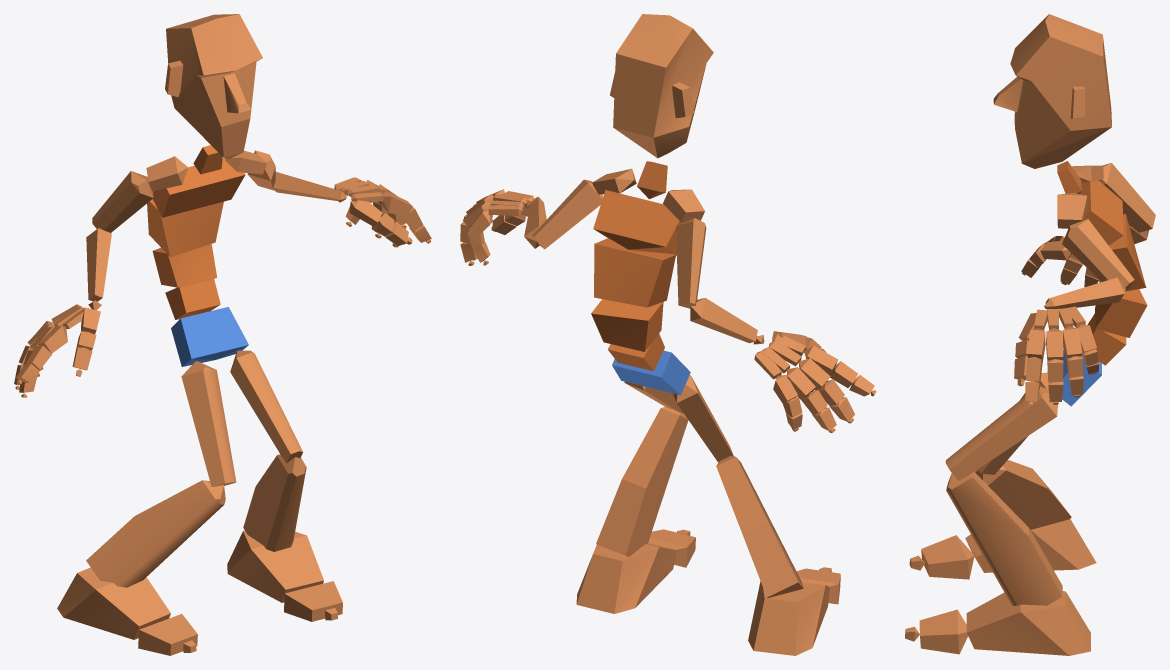
File: prueba289.obj
3 views of the same model, side by side, from view 1: azimuth 30°, elevation 25°; view 2: azimuth 150°, elevation 25°; view 3: azimuth 270°, elevation 25° (orthographic). The views are drawn at different scales.
Visible parts, largest first — view 1: BOPED_Head, BOPED_R_leg, BOPED_R_foot, BOPED_R_foot01, BOPED_L_leg, BOPED_R_legup, Bone01, BOPED_L_legup, Bone04, Bone05, Bone03, BOPED_R_arm_upper (+8 smaller); view 2: BOPED_Head, BOPED_L_leg, BOPED_R_foot01, BOPED_R_leg, BOPED_R_foot, Bone04, Bone05, Bone03, BOPED_R_arm_upper, BOPED_L_arm_upper, BOPED_R_legup, Bone01 (+8 smaller); view 3: BOPED_Head, BOPED_L_leg, BOPED_R_foot01, BOPED_L_legup, BOPED_R_leg, BOPED_R_foot, BOPED_L_arm_upper, Bone05, BOPED_R_foot_toe01, BOPED_R_foot_toe04, Bone03, BOPED_R_arm_upper (+14 smaller).
Part boxes in pixels (box(x1,y1,x2,y2)): BOPED_Head: box(165, 14, 262, 158); BOPED_R_leg: box(86, 480, 225, 587); BOPED_R_foot: box(57, 567, 170, 639); BOPED_R_foot01: box(227, 530, 323, 602); BOPED_L_leg: box(243, 454, 306, 551); BOPED_R_legup: box(181, 361, 236, 486); Bone01: box(171, 307, 248, 366); BOPED_L_legup: box(230, 350, 302, 463); Bone04: box(147, 199, 223, 257); Bone05: box(153, 158, 245, 217); Bone03: box(152, 244, 217, 287); BOPED_R_arm_upper: box(92, 171, 153, 232); BOPED_Head: box(610, 14, 713, 158); BOPED_L_leg: box(596, 407, 688, 556); BOPED_R_foot01: box(576, 543, 676, 613); BOPED_R_leg: box(716, 455, 803, 597); BOPED_R_foot: box(748, 581, 829, 655); Bone04: box(594, 238, 675, 307); Bone05: box(593, 190, 683, 255); Bone03: box(591, 299, 663, 351); BOPED_R_arm_upper: box(676, 218, 706, 308); BOPED_L_arm_upper: box(532, 179, 602, 249); BOPED_R_legup: box(673, 375, 733, 462); Bone01: box(612, 350, 690, 395); BOPED_Head: box(993, 14, 1111, 168); BOPED_L_leg: box(946, 472, 1062, 605); BOPED_R_foot01: box(966, 591, 1090, 655); BOPED_L_legup: box(945, 386, 1057, 480); BOPED_R_leg: box(975, 460, 1071, 529); BOPED_R_foot: box(965, 519, 1096, 572); BOPED_L_arm_upper: box(1062, 219, 1134, 290); Bone05: box(1080, 180, 1123, 245); BOPED_R_foot_toe01: box(921, 535, 974, 579); BOPED_R_foot_toe04: box(919, 609, 967, 654); Bone03: box(1095, 289, 1147, 337); BOPED_R_arm_upper: box(1098, 163, 1155, 232).
Bounding box in the file's own units: 130 × 175 × 66.58.
